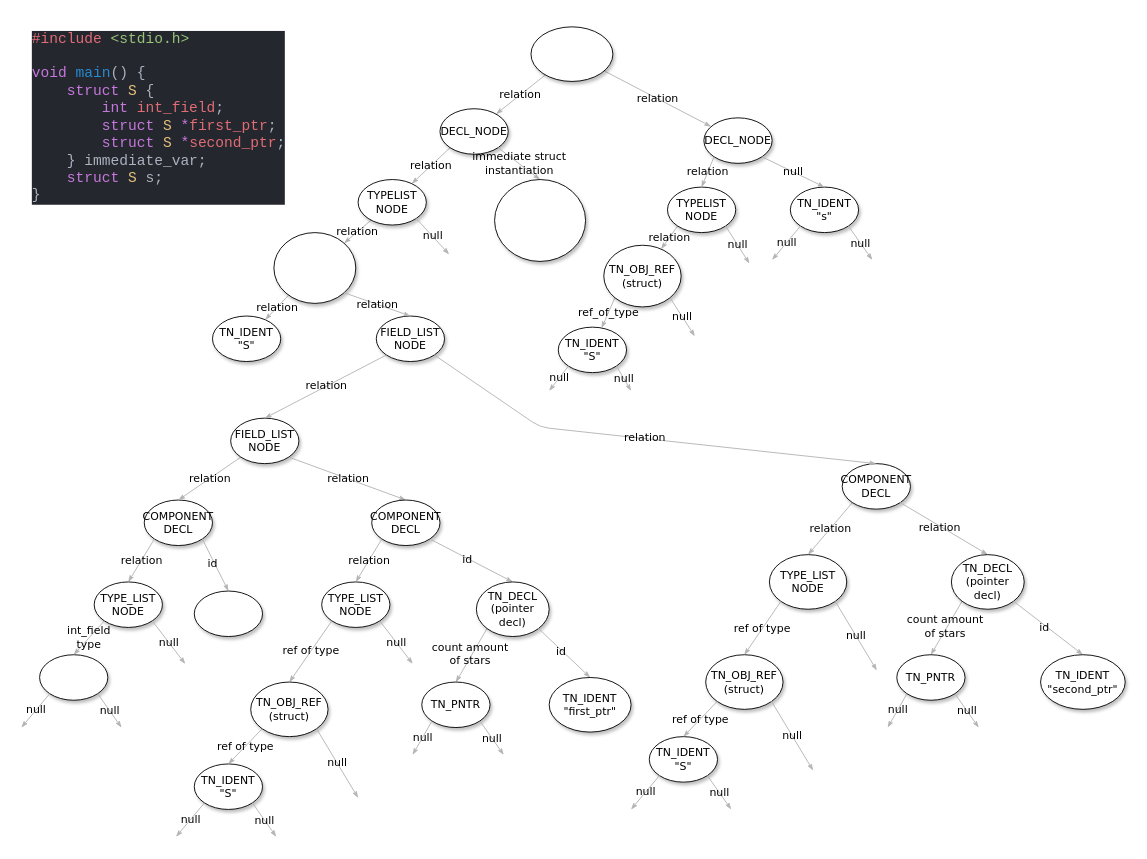
Some shapes in this 1147 by 859 pixel diagram are drawn without their labels. The centre of each missing label's shape, as x and y in pixels:
TN_DECL_LIST: pixel 572 55
TN_IDENT "immediate_var": pixel 540 221
TN_IDENT "int_field": pixel 229 614
TN_OBJ_DEF tok=304 struct: pixel 315 269
TN_TYPE "INT": pixel 74 678
